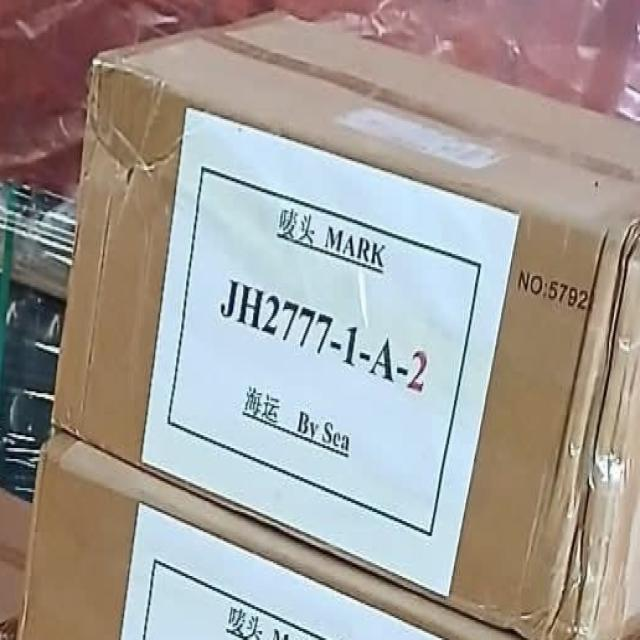carton_box: (48, 0, 640, 640)
export_mark_label: (168, 143, 479, 556)
package_damage: (582, 323, 618, 614), (114, 135, 168, 224)
